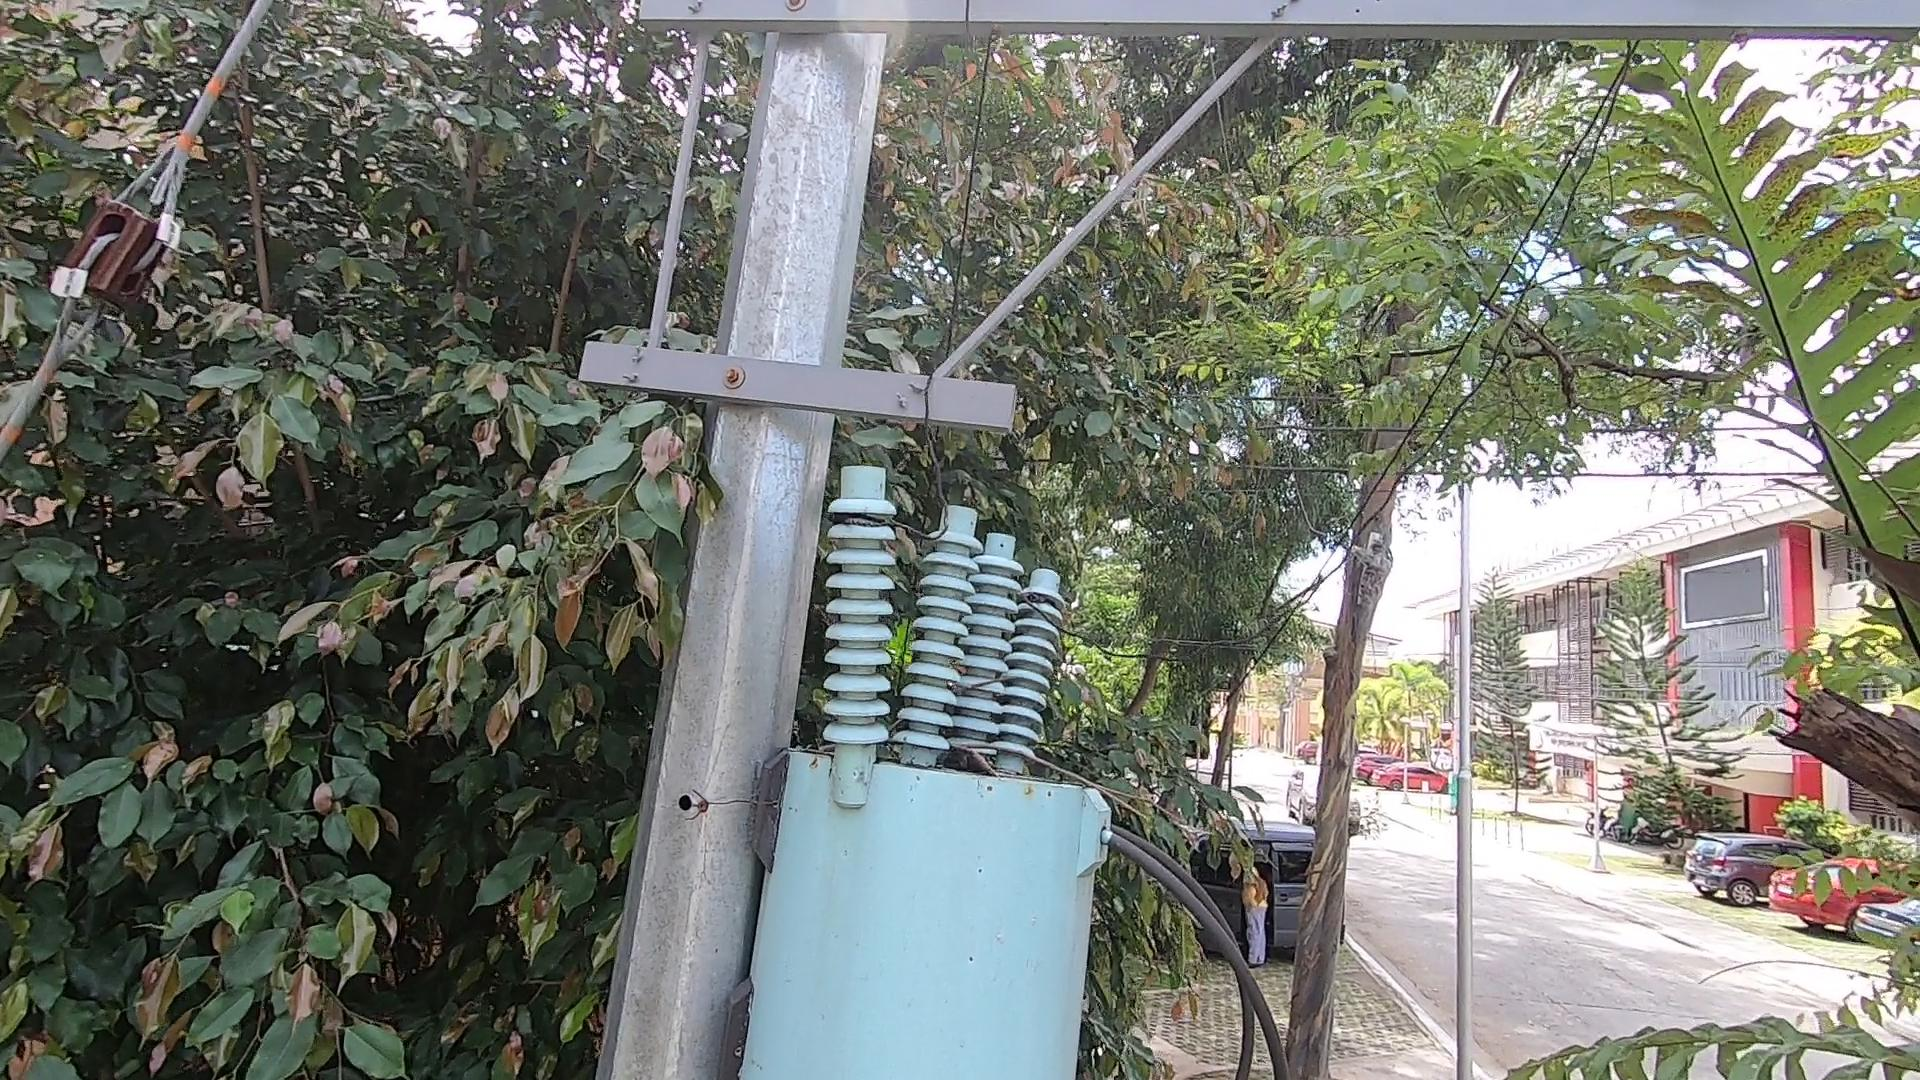leaf: (924, 732, 1000, 782)
tree branch: (870, 713, 1151, 835)
